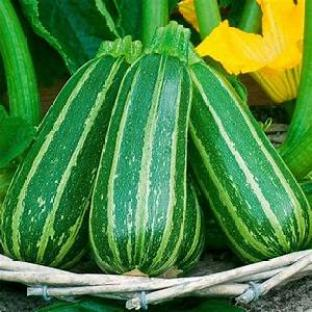Zucchini: (0, 38, 140, 267), (90, 22, 193, 275), (190, 56, 311, 262), (175, 175, 205, 272), (301, 179, 311, 206)
